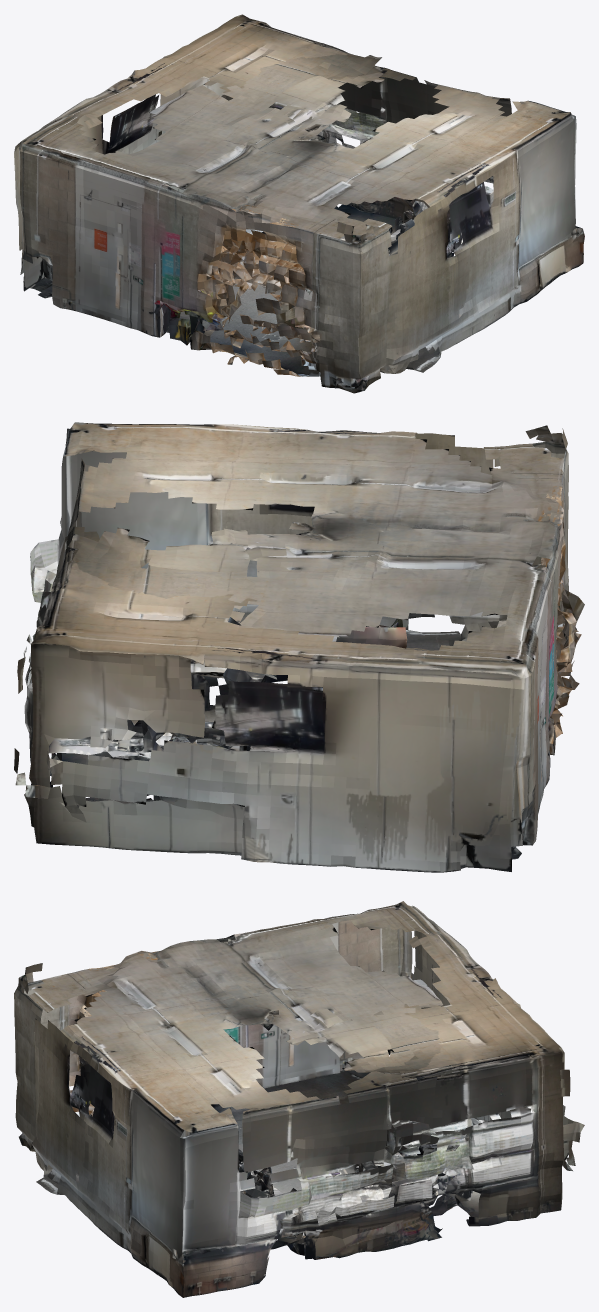
3 views of the same model, one above another, from view 1: azimuth 30°, elevation 25°; view 2: azimuth 150°, elevation 25°; view 3: azimuth 270°, elevation 25° (orthographic). The views are drawn at different scales.
Visible parts, largest first — view 1: 1_m104d-IM; view 2: 1_m104d-IM; view 3: 1_m104d-IM.
Part boxes in pixels (x1,y1,x2,y2): 1_m104d-IM: (14, 14, 584, 393); 1_m104d-IM: (14, 422, 584, 872); 1_m104d-IM: (14, 901, 584, 1297).
Bounding box in the file's own units: 994 × 356 × 1013.
Materials: 1 (1 with a texture image).
